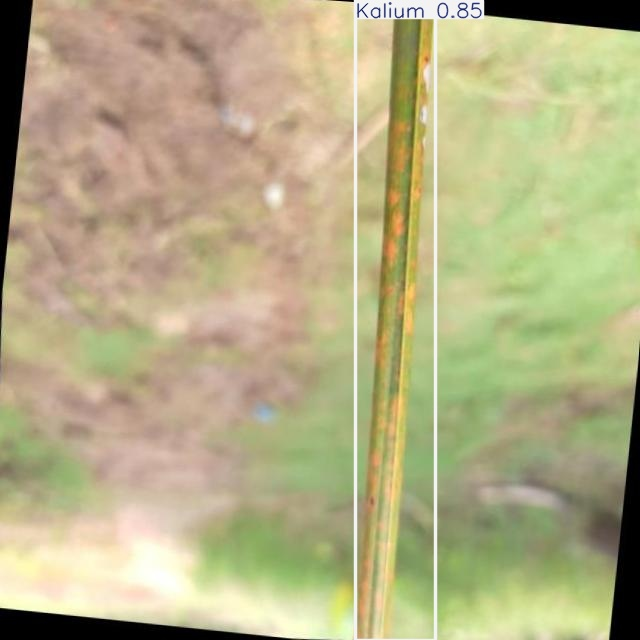Kalium: (355, 1, 436, 640)
